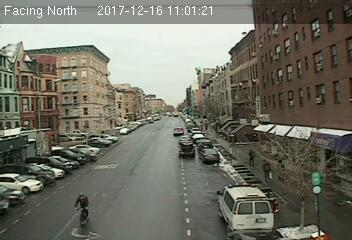bicycle: (72, 192, 93, 232)
car: (200, 148, 219, 163), (179, 141, 195, 158), (173, 126, 183, 134)
pedestrian: (263, 159, 272, 184), (247, 148, 257, 168)
police: (215, 179, 276, 233)
